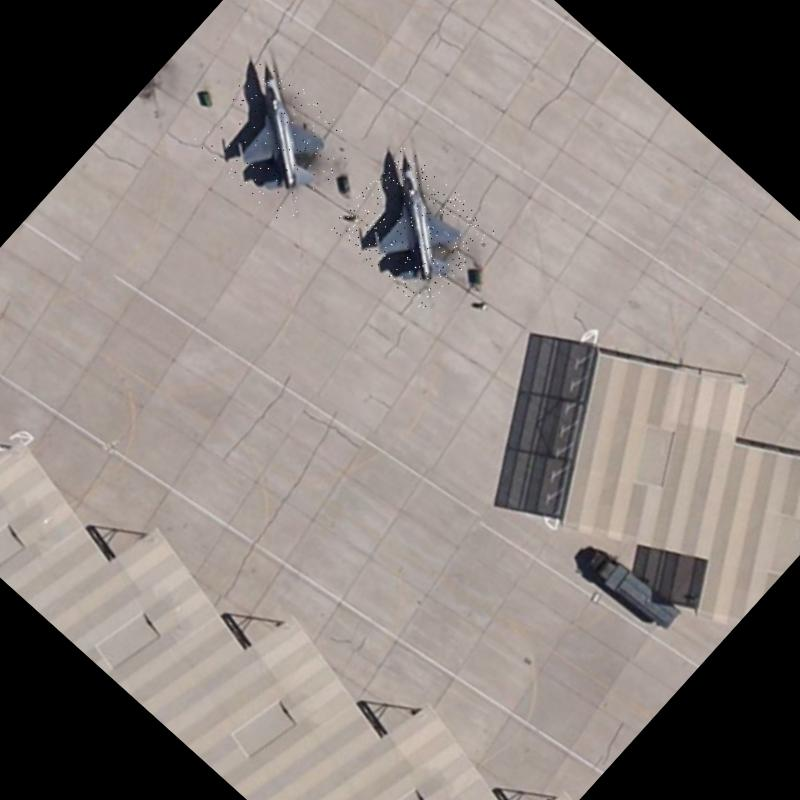A5: (189, 55, 362, 227), (328, 145, 497, 312)
